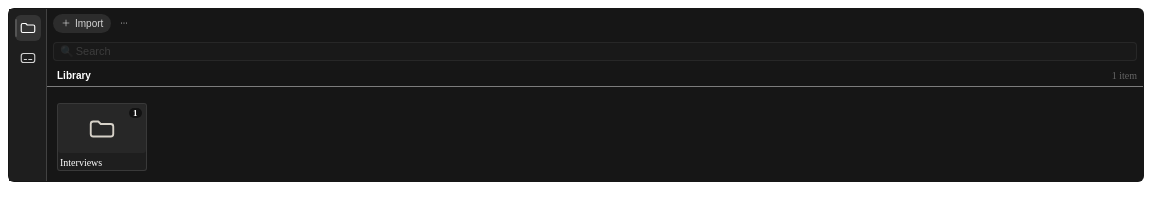
Test: drill-in navigation: double-click opens a folder, breadcrumb navigates back to root
Check: the button with test id "media-breadcrumb-root" is shown, box [53,68,95,83]
Check: the text "nested-1.mp4" is not shown
Double-click the element with test id "folder-tile" at (102, 137), box [57,103,147,171]
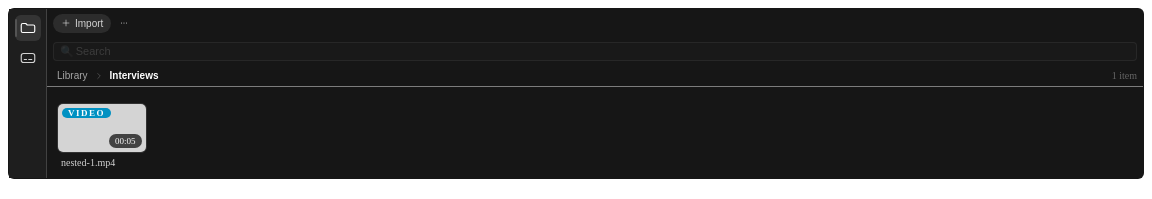
Check: the button with test id "media-breadcrumb-f1" reads "Interviews", box [106,68,162,83]
Check: the text "nested-1.mp4" is shown, box [61,157,115,168]
Check: the element with test id "folder-tile" is gone
Click the button with test id "media-breadcrumb-root" at (72, 76), box [53,68,92,83]
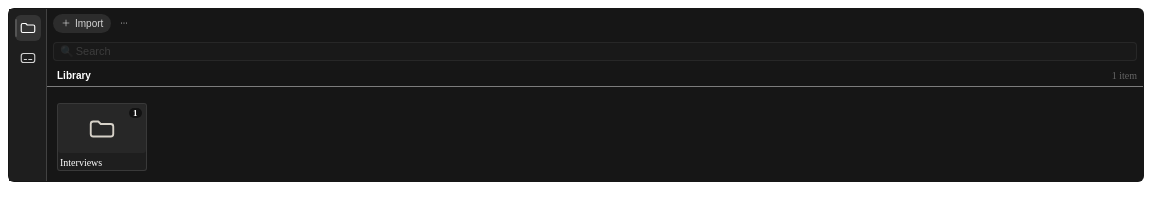
Check: the element with test id "folder-tile" is shown, box [57,103,147,171]
Check: the text "nested-1.mp4" is gone
